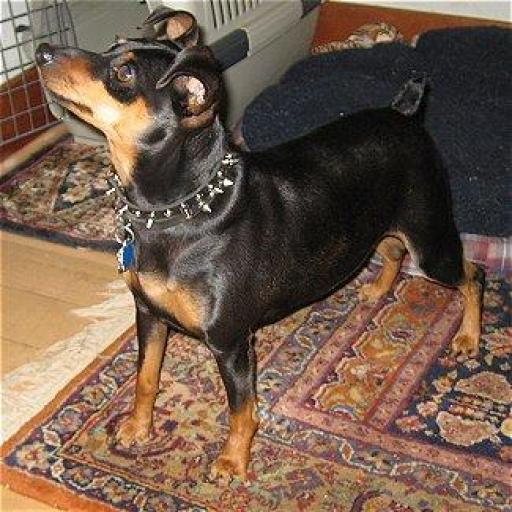dog_face: (29, 13, 234, 154)
